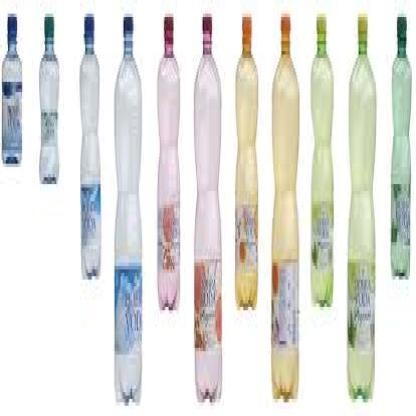trash: (0, 0, 415, 415), (192, 13, 223, 405), (113, 15, 143, 406), (346, 13, 376, 403), (270, 13, 300, 403), (156, 14, 180, 311), (234, 14, 258, 310), (310, 13, 334, 308), (78, 13, 101, 280), (390, 14, 412, 279), (38, 13, 59, 185)
